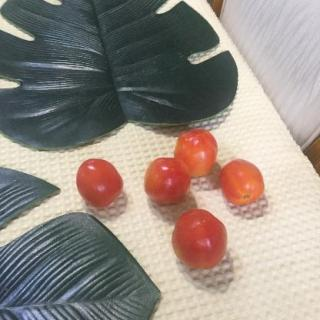Tomat: (168, 207, 239, 274), (72, 149, 130, 218), (173, 122, 222, 183), (216, 156, 267, 213), (143, 156, 200, 204)
